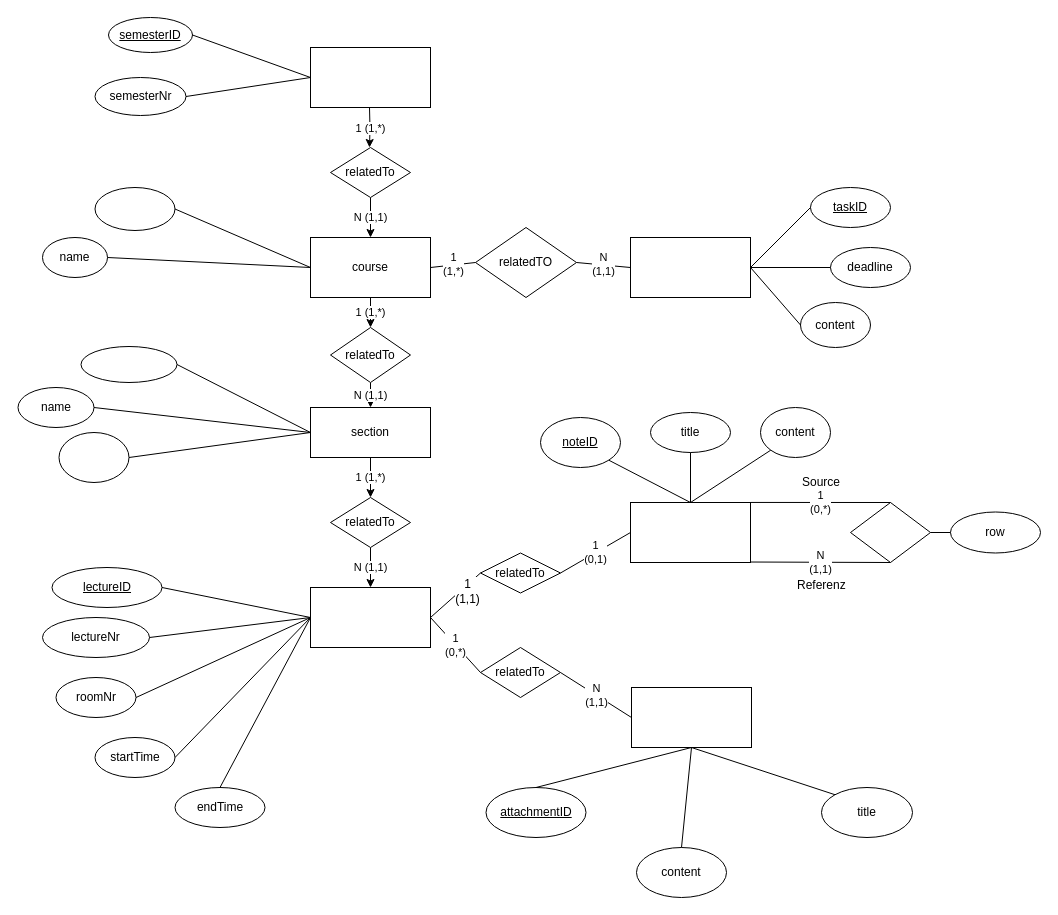
The diagram is 1058 pixels wide and 915 high, and some of its shapes have lost their labels. Each missing label, with the box of its shape:
attachments: (630, 686, 752, 748)
courseID: (94, 186, 175, 230)
lecture: (310, 586, 430, 648)
lecturer: (58, 432, 129, 482)
note: (630, 502, 750, 562)
references: (850, 502, 930, 562)
sectionID: (80, 346, 177, 382)
semester: (310, 46, 430, 108)
task: (630, 236, 750, 298)
